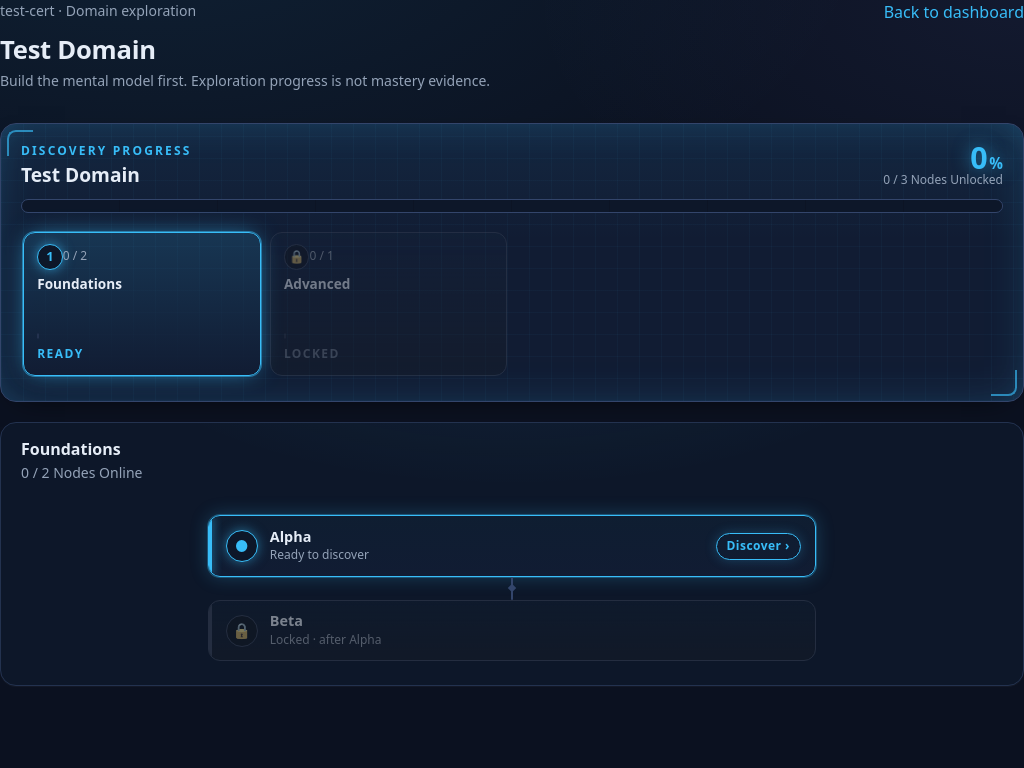
Test: DomainLearningPage › renders authored prompt content on a knowledge card
Expected: the text "0 / 3 Nodes Unlocked" is shown, [883,174,1003,187]
Expected: the button with aria-label "Beta, Locked" is shown, [208,600,816,661]
Click the button with aria-label "Alpha, Ready to discover" at (242, 546), box [208,515,816,577]
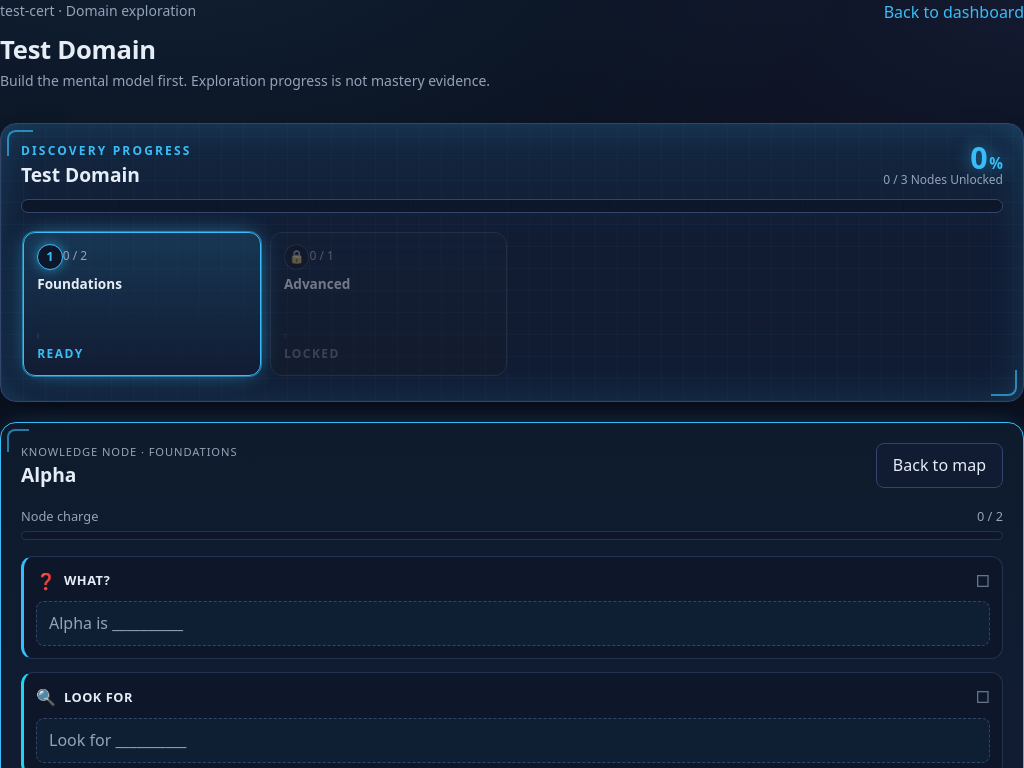
Expected: the heading "Alpha" is shown, [21,461,76,488]
Expected: the button with aria-label "Reveal WHAT?" is shown, [36,602,990,646]
Expected: the button "Look for __________" is shown, [36,718,990,763]
